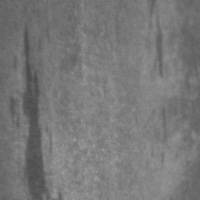inclusion: (8, 20, 53, 199), (142, 1, 170, 83), (151, 108, 173, 146)
